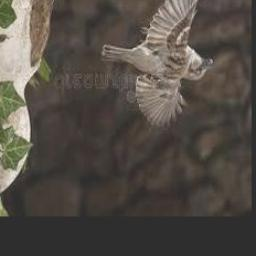Sparrow: (100, 0, 220, 128)
